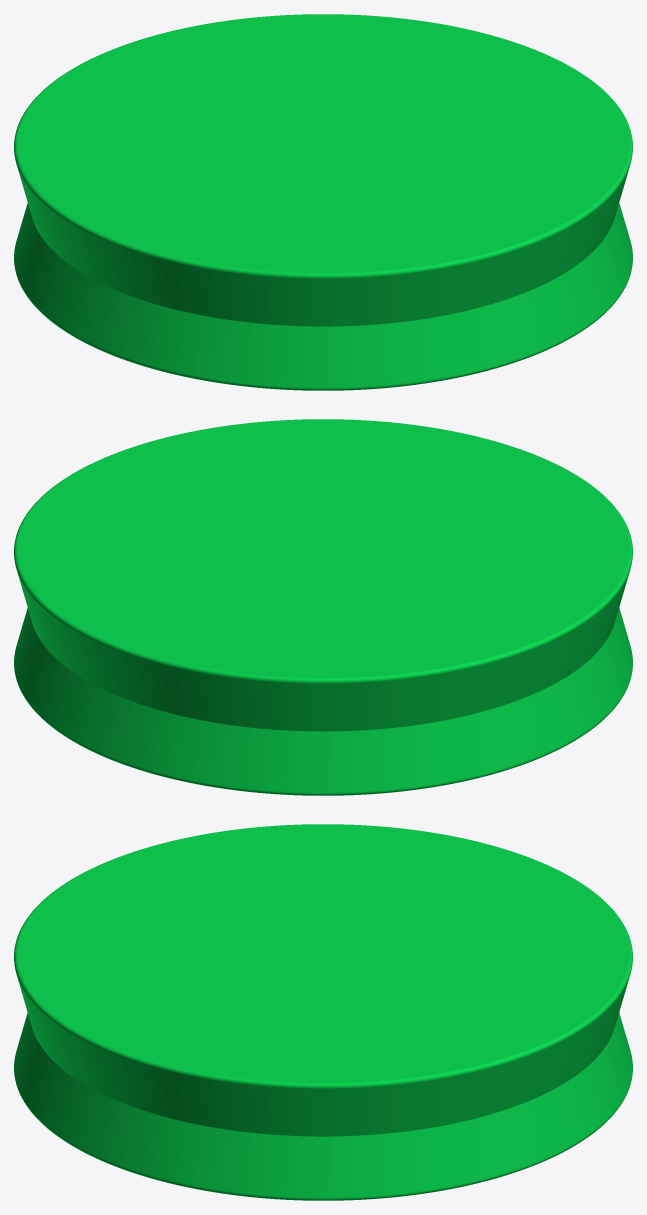
File: hotspot base.glb
3 renders of one model, top to bottom at view 1: azimuth 30°, elevation 25°; view 2: azimuth 150°, elevation 25°; view 3: azimuth 270°, elevation 25°, orthographic.
Parts seen in each view (by area): view 1: Cylinder; view 2: Cylinder; view 3: Cylinder.
Boxes of the visible parts, <box> form: Cylinder: <box>14,14,632,390</box>; Cylinder: <box>14,419,632,795</box>; Cylinder: <box>14,824,632,1200</box>.
Size of the model in its own units: 13.95 by 2.92 by 13.95.
